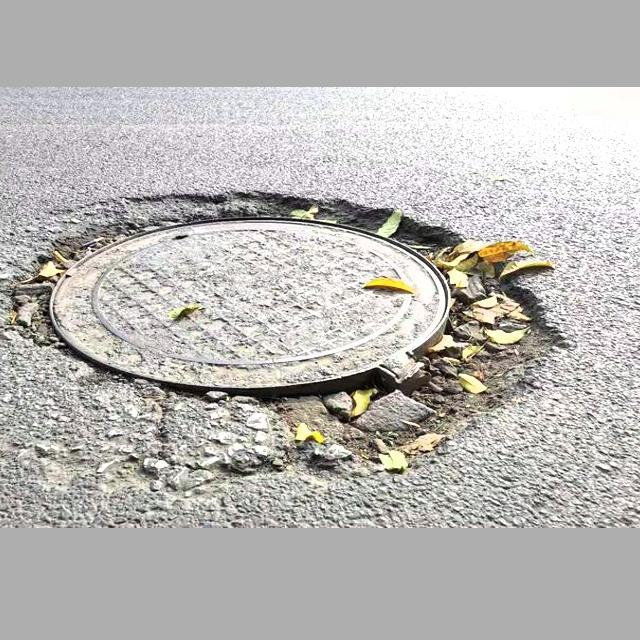circle: (0, 190, 551, 479)
